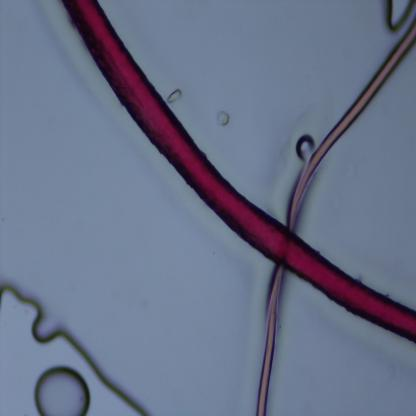Air bubble: (0, 282, 150, 415), (34, 365, 92, 415), (386, 0, 416, 31), (294, 134, 317, 166)
Background material: (211, 102, 233, 133), (164, 85, 188, 110)
Hair textile: (61, 0, 416, 343)
Microfibre: (287, 17, 416, 231), (256, 267, 283, 415)
